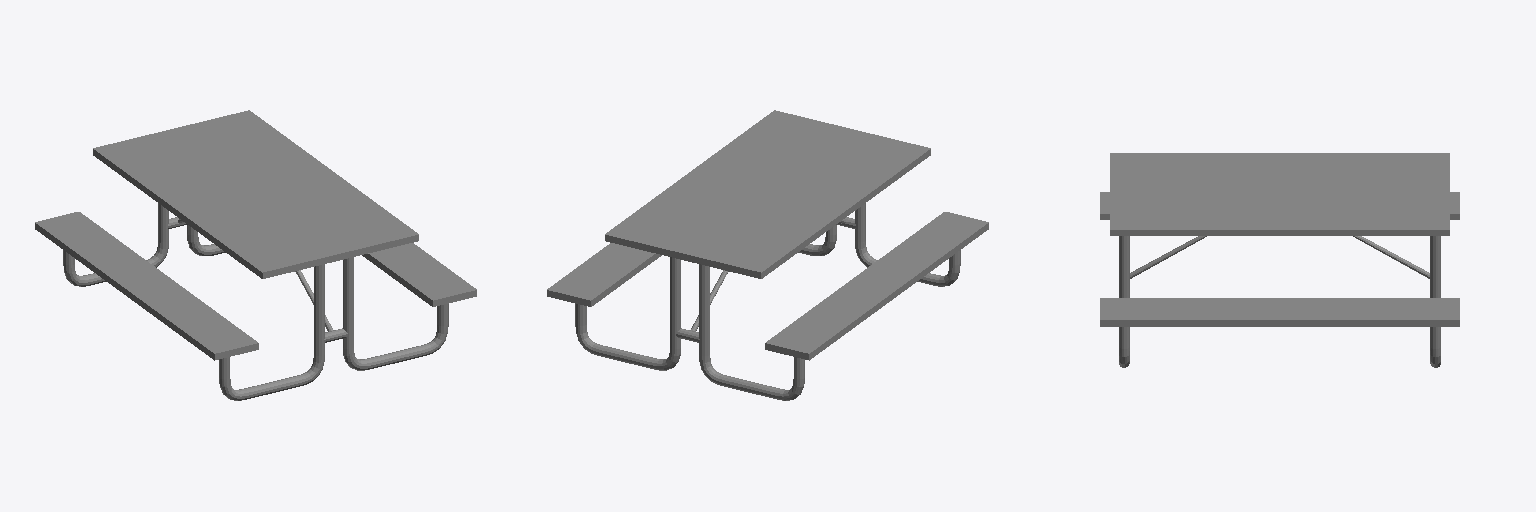
Rendered from mesa.obj.
3 renders of one model, left to right at view 1: azimuth 30°, elevation 25°; view 2: azimuth 150°, elevation 25°; view 3: azimuth 270°, elevation 25°, orthographic.
Visible parts, largest first — view 1: picnictable; view 2: picnictable; view 3: picnictable.
Boxes of the visible parts, box(x1,y1,x2,y2) form: picnictable: box(35, 110, 476, 400); picnictable: box(547, 110, 988, 400); picnictable: box(1100, 153, 1459, 367).
Size of the model in its own units: 167 by 78.45 by 198.